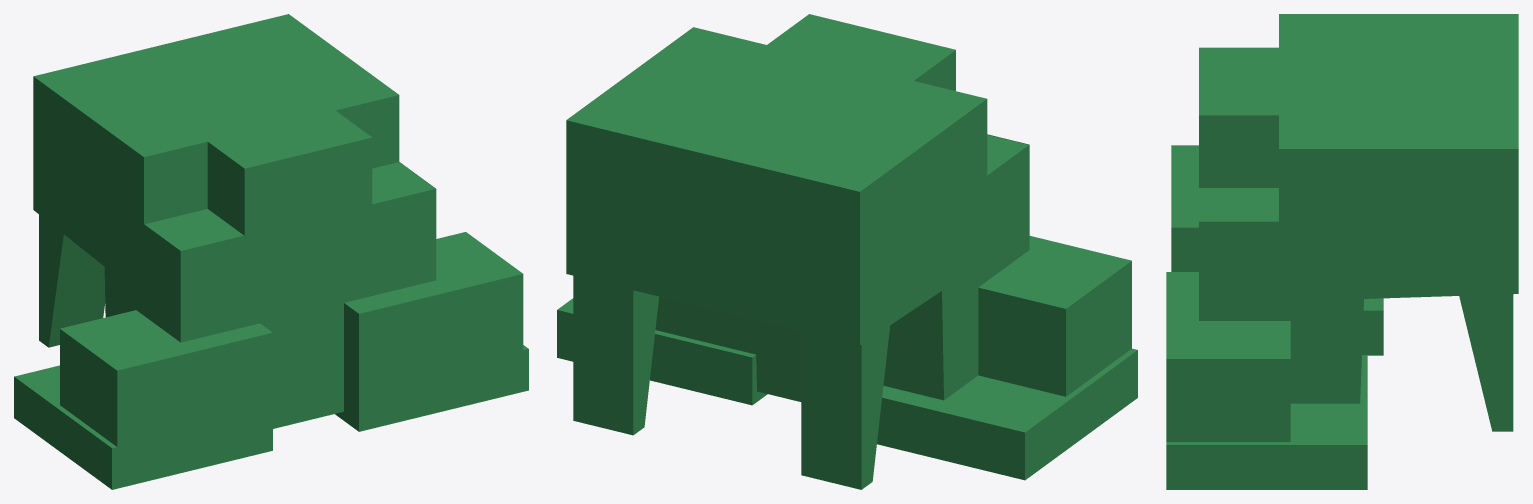
The model's file is frog.glb.
3 renders of one model, left to right at view 1: azimuth 30°, elevation 25°; view 2: azimuth 150°, elevation 25°; view 3: azimuth 270°, elevation 25°, orthographic. The views are drawn at different scales.
Visible parts, largest first — view 1: Cube.004; view 2: Cube.004; view 3: Cube.004.
Part boxes in pixels (x1,y1,x2,y2): Cube.004: (14,14,528,489); Cube.004: (557,14,1137,489); Cube.004: (1166,14,1518,489).
Size of the model in its own units: 1.08 by 0.6913 by 0.7363.
